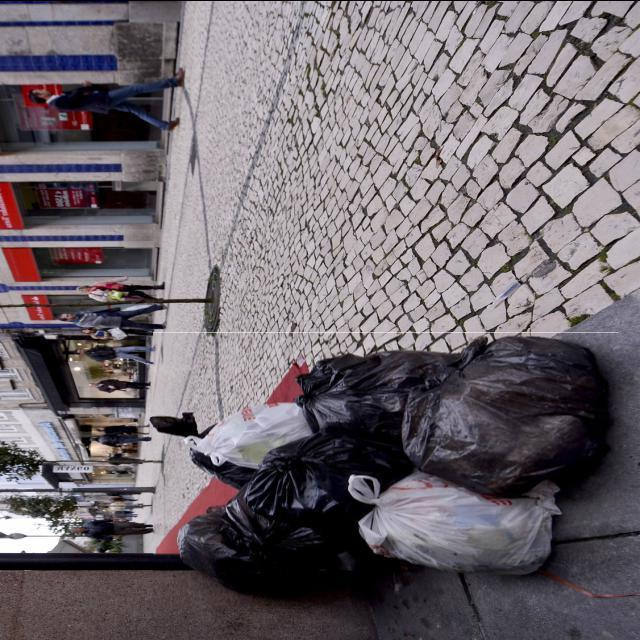Trashbag: (412, 341, 607, 494), (176, 514, 387, 598), (292, 337, 438, 441), (248, 434, 402, 531)
